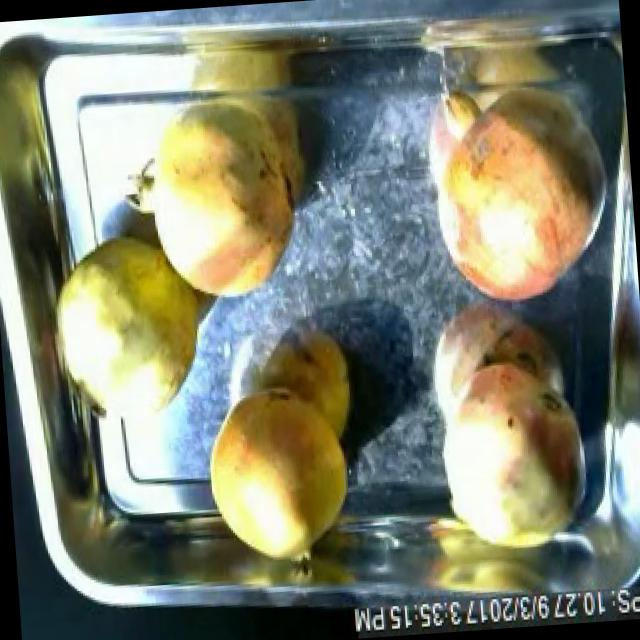fruit: (413, 56, 632, 322), (107, 98, 309, 314), (422, 341, 602, 566), (43, 218, 217, 434), (198, 370, 364, 581)
